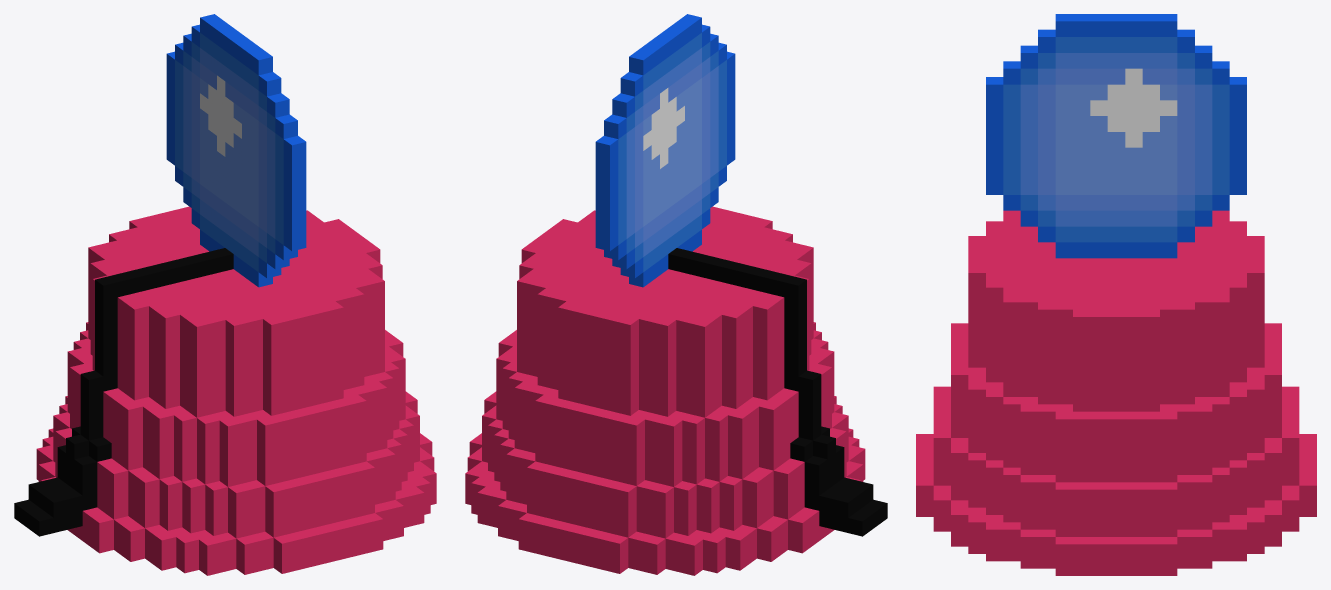
Rendered from Bubble.obj.
3 renders of one model, left to right at view 1: azimuth 30°, elevation 25°; view 2: azimuth 150°, elevation 25°; view 3: azimuth 270°, elevation 25°, orthographic. The views are drawn at different scales.
Size of the model in its own units: 2.6 by 3 by 2.3.
1 material, 1 textured.
